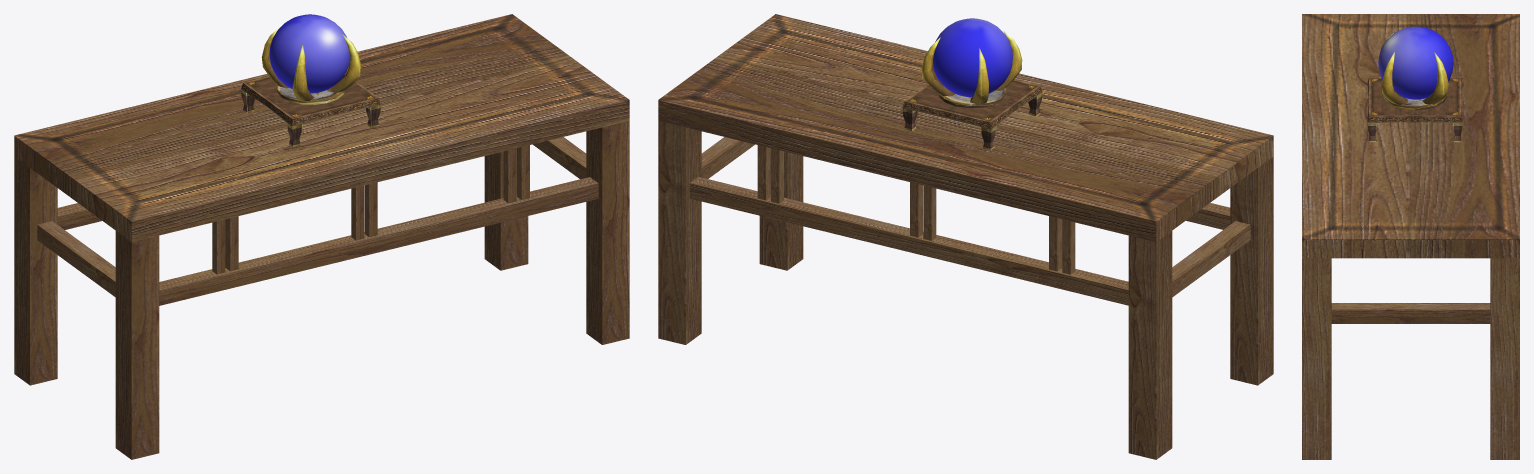
Rendered from Table_5.FBX.
3 views of the same model, side by side, from view 1: azimuth 30°, elevation 25°; view 2: azimuth 150°, elevation 25°; view 3: azimuth 270°, elevation 25° (orthographic). The views are drawn at different scales.
Parts seen in each view (by area): view 1: Table_5; view 2: Table_5; view 3: Table_5.
Boxes of the visible parts, box(x1,y1,x2,y2) form: Table_5: box(14, 14, 629, 459); Table_5: box(658, 14, 1273, 459); Table_5: box(1302, 14, 1519, 459).
Bounding box in the file's own units: 58.93 × 38.23 × 24.08.
